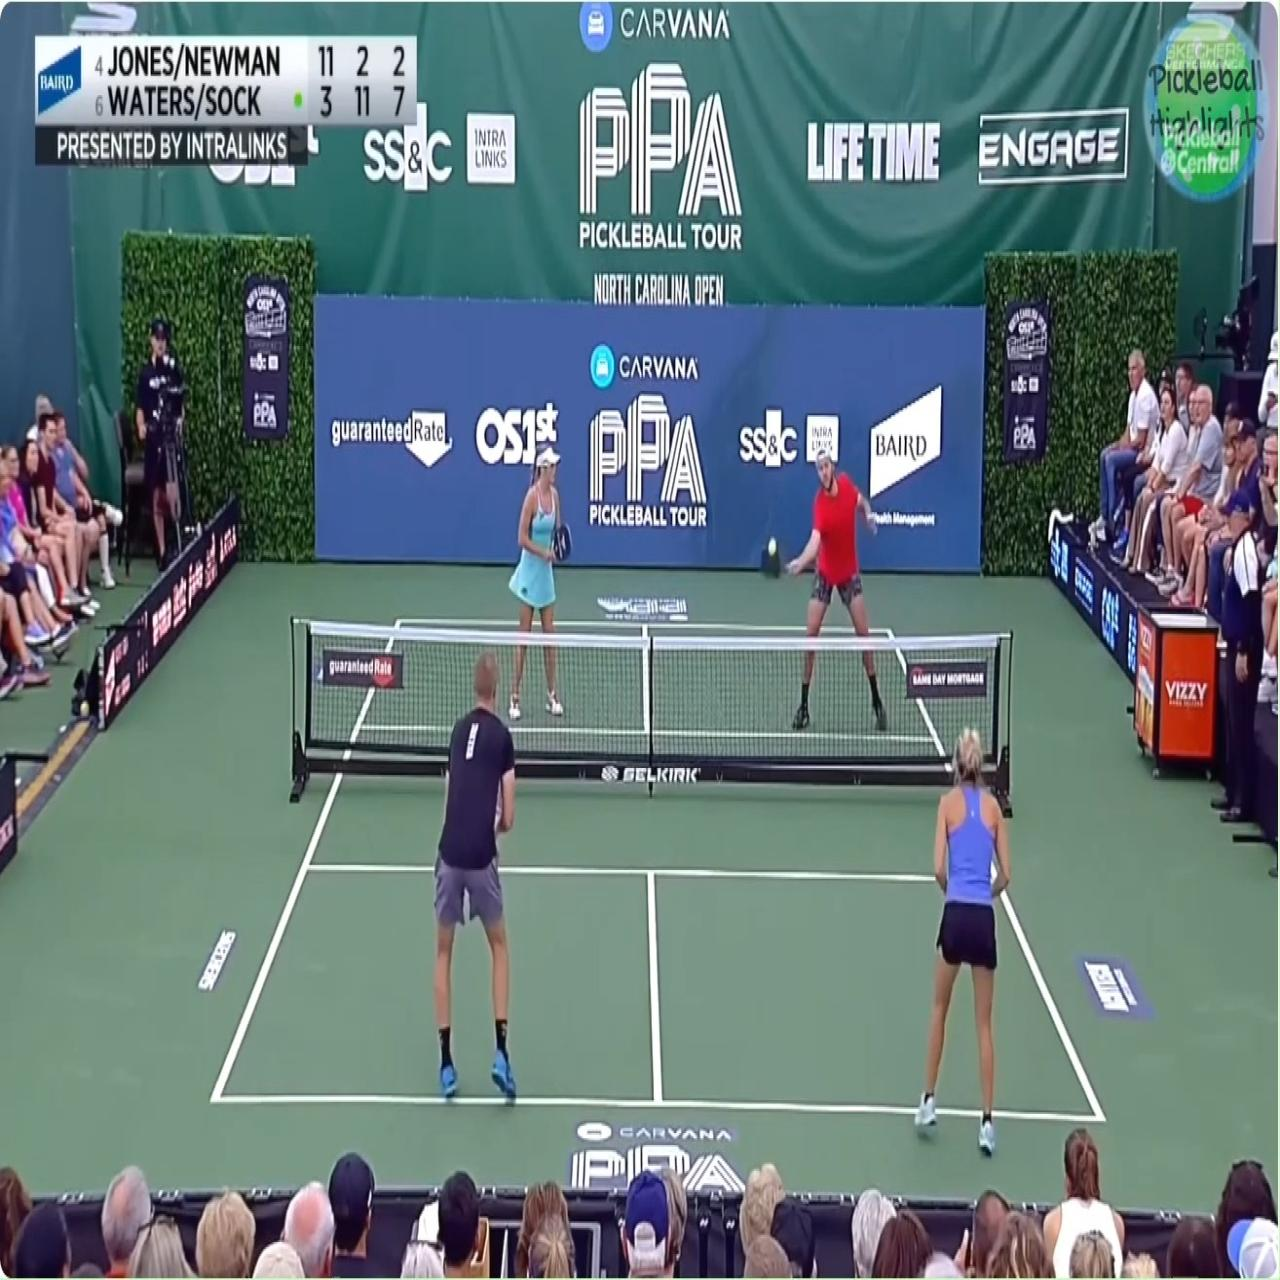pickleball: (768, 536, 777, 558)
